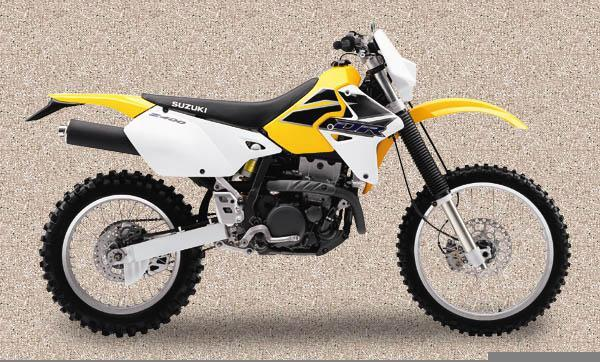motorcycle: (22, 7, 581, 347)
